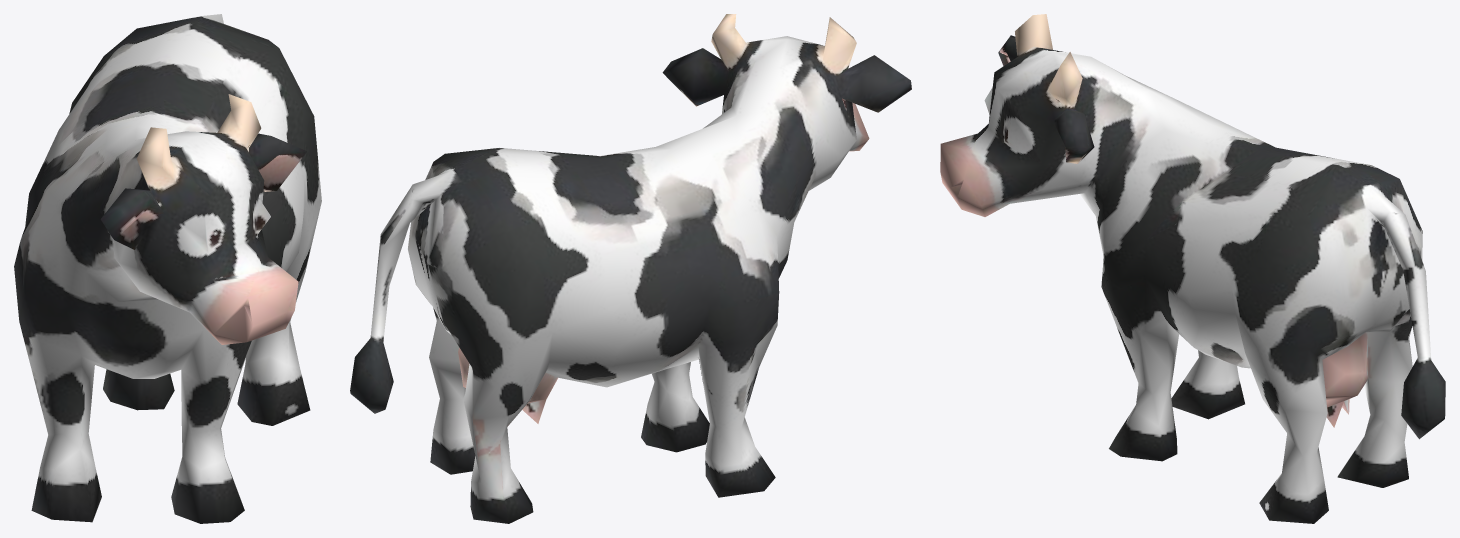
Rendered from cow.glb.
The picture shows the model from 3 angles, left to right: view 1: azimuth 30°, elevation 25°; view 2: azimuth 150°, elevation 25°; view 3: azimuth 270°, elevation 25°; orthographic projection. The views are drawn at different scales.
Visible parts, largest first — view 1: Cow; view 2: Cow; view 3: Cow.
Boxes of the visible parts, x1,y1,x2,y2 form: Cow: [14, 14, 321, 523]; Cow: [350, 14, 911, 523]; Cow: [940, 14, 1445, 523].
Bounding box in the file's own units: 0.9885 × 1.1 × 1.3.
Materials: 1 (1 with a texture image).
